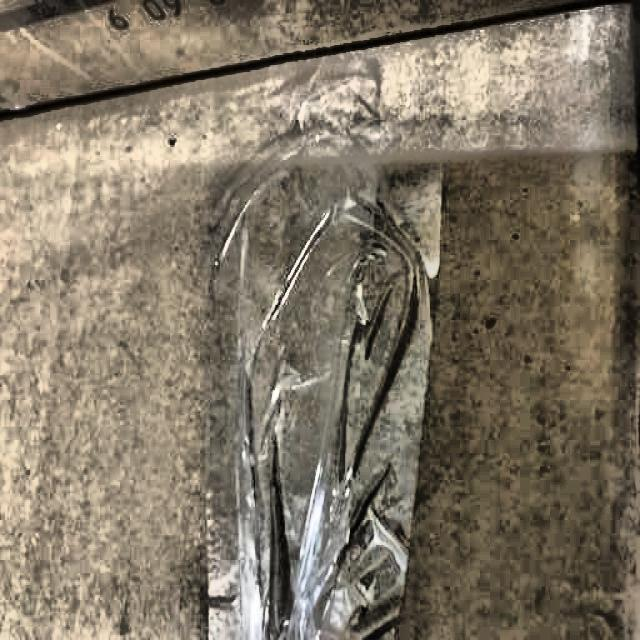cardboard: (6, 1, 637, 632)
